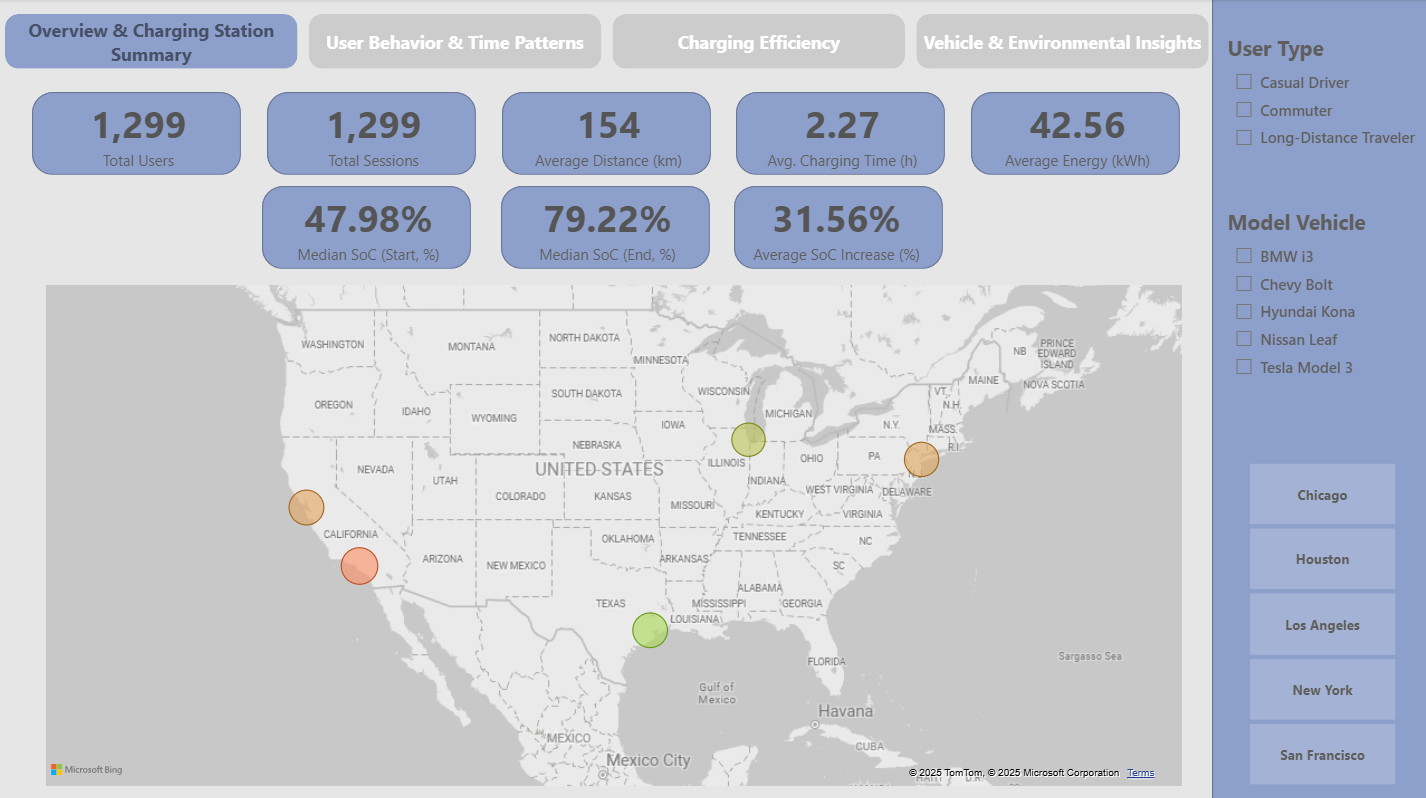

What the dashboard file says about the page in this screenshot:
{"tool":"powerbi","page":{"name":"Overview & Charging Station Summary","canvas":[1280,720],"ordinal":0},"visuals":[{"type":"group","id":"g1","title":"Total Users KPI","box":[28.7,83.3,187.2,74.3],"z":0,"group":"g2"},{"type":"shape","box":[28.7,83.3,187.2,74.3],"z":0,"group":"g1"},{"type":"shape","box":[239,83.3,187.2,74.3],"z":0,"group":"g3"},{"type":"shape","box":[449.2,83.3,187.2,74.3],"z":0,"group":"g4"},{"type":"shape","box":[659.5,83.3,187.2,74.3],"z":0,"group":"g6"},{"type":"shape","box":[869.7,83.3,187.2,74.3],"z":0,"group":"g8"},{"type":"shape","box":[657.4,167.6,187.2,74.3],"z":0,"group":"g10"},{"type":"shape","box":[234.6,167.7,187.2,74.3],"z":0,"group":"g7"},{"type":"shape","box":[448.8,167.7,187.2,74.3],"z":0,"group":"g9"},{"type":"map","title":"Page 1 Charging Map","fields":{"Y":["EV Charging.City Latitude"],"X":["EV Charging.City Longitude"],"Size":["Metrics.Sessions Count"]},"box":[35.8,250.7,1028.1,458.5],"z":0},{"type":"group","id":"g2","title":"Page 1 KPI (User Behavior))","box":[28.7,83.3,1028.1,74.3],"z":1000},{"type":"card","fields":{"Values":["EV charging patterns.Users Count"]},"box":[40.3,83.3,167.5,74.3],"z":1000,"group":"g1"},{"type":"group","id":"g3","title":"Total Sessions KPI","box":[239,83.3,187.2,74.3],"z":1000,"group":"g2"},{"type":"card","fields":{"Values":["Metrics.Sessions Count"]},"box":[250.6,83.3,167.5,74.3],"z":1000,"group":"g3"},{"type":"card","fields":{"Values":["Metrics.Avg Distance Driven"]},"box":[460.8,83.3,167.5,74.3],"z":1000,"group":"g4"},{"type":"card","fields":{"Values":["Metrics.Average Charging Duration"]},"box":[671.1,83.3,167.5,74.3],"z":1000,"group":"g6"},{"type":"card","fields":{"Values":["Metrics.Avg Energy"]},"box":[881.3,83.3,167.5,74.3],"z":1000,"group":"g8"},{"type":"card","fields":{"Values":["Metrics.Avg SoC Difference"]},"box":[665.1,167.6,167.5,74.3],"z":1000,"group":"g10"},{"type":"card","fields":{"Values":["Metrics.Median Starting SoC"]},"box":[246.2,167.7,167.5,74.3],"z":1000,"group":"g7"},{"type":"card","fields":{"Values":["Metrics.Median Ending SoC"]},"box":[460.4,167.7,167.5,74.3],"z":1000,"group":"g9"},{"type":"group","id":"g4","title":"Avg Distance KPI","box":[449.2,83.3,187.2,74.3],"z":2000,"group":"g2"},{"type":"group","id":"g5","title":"Page 1 KPI (SoC)","box":[234.6,167.6,610,74.5],"z":2000},{"type":"shape","box":[1085.4,0,194.3,720],"z":3000},{"type":"group","id":"g6","title":"Avg Duration KPI","box":[659.5,83.3,187.2,74.3],"z":3000,"group":"g2"},{"type":"group","id":"g7","title":"Median SoC Start KPI","box":[234.6,167.7,187.2,74.3],"z":3000,"group":"g5"},{"type":"group","id":"g8","title":"Avg Energy KPI","box":[869.7,83.3,187.2,74.3],"z":4000,"group":"g2"},{"type":"group","id":"g9","title":"Median SoC End KPI","box":[448.8,167.7,187.2,74.3],"z":4000,"group":"g5"},{"type":"slicer","fields":{"Values":["EV Charging.Charging Station Location"]},"box":[1093,409,180,301],"z":4000},{"type":"group","id":"g10","title":"SoC Increase KPI","box":[657.4,167.6,187.2,74.3],"z":5000,"group":"g5"},{"type":"slicer","title":"Model Vehicle","fields":{"Values":["EV Charging.Vehicle Model"]},"box":[1094,187,179,199],"z":5000},{"type":"slicer","title":"User Type","fields":{"Values":["EV Charging.User Type"]},"box":[1094,31,179,144],"z":6000},{"type":"pageNavigator","box":[4.5,13.4,1079.1,49.3],"z":7000}]}

Visuals, with their boxes in screenshot pixels (x1, y1, x2, y2), scaled from the page's 1280x720 canvas onto the 1426x798 screenshot:
"Total Users KPI" group: l=32, t=92, r=241, b=175
shape: l=32, t=92, r=241, b=175
shape: l=266, t=92, r=475, b=175
shape: l=500, t=92, r=709, b=175
shape: l=735, t=92, r=943, b=175
shape: l=969, t=92, r=1177, b=175
shape: l=732, t=186, r=941, b=268
shape: l=261, t=186, r=470, b=268
shape: l=500, t=186, r=709, b=268
"Page 1 Charging Map" map: l=40, t=278, r=1185, b=786
"Page 1 KPI (User Behavior))" group: l=32, t=92, r=1177, b=175
card - EV charging patterns.Users Count: l=45, t=92, r=232, b=175
"Total Sessions KPI" group: l=266, t=92, r=475, b=175
card - Metrics.Sessions Count: l=279, t=92, r=466, b=175
card - Metrics.Avg Distance Driven: l=513, t=92, r=700, b=175
card - Metrics.Average Charging Duration: l=748, t=92, r=934, b=175
card - Metrics.Avg Energy: l=982, t=92, r=1168, b=175
card - Metrics.Avg SoC Difference: l=741, t=186, r=928, b=268
card - Metrics.Median Starting SoC: l=274, t=186, r=461, b=268
card - Metrics.Median Ending SoC: l=513, t=186, r=700, b=268
"Avg Distance KPI" group: l=500, t=92, r=709, b=175
"Page 1 KPI (SoC)" group: l=261, t=186, r=941, b=268
shape: l=1209, t=0, r=1425, b=797
"Avg Duration KPI" group: l=735, t=92, r=943, b=175
"Median SoC Start KPI" group: l=261, t=186, r=470, b=268
"Avg Energy KPI" group: l=969, t=92, r=1177, b=175
"Median SoC End KPI" group: l=500, t=186, r=709, b=268
slicer - EV Charging.Charging Station Location: l=1218, t=453, r=1418, b=787
"SoC Increase KPI" group: l=732, t=186, r=941, b=268
"Model Vehicle" slicer: l=1219, t=207, r=1418, b=428
"User Type" slicer: l=1219, t=34, r=1418, b=194
pageNavigator: l=5, t=15, r=1207, b=69
